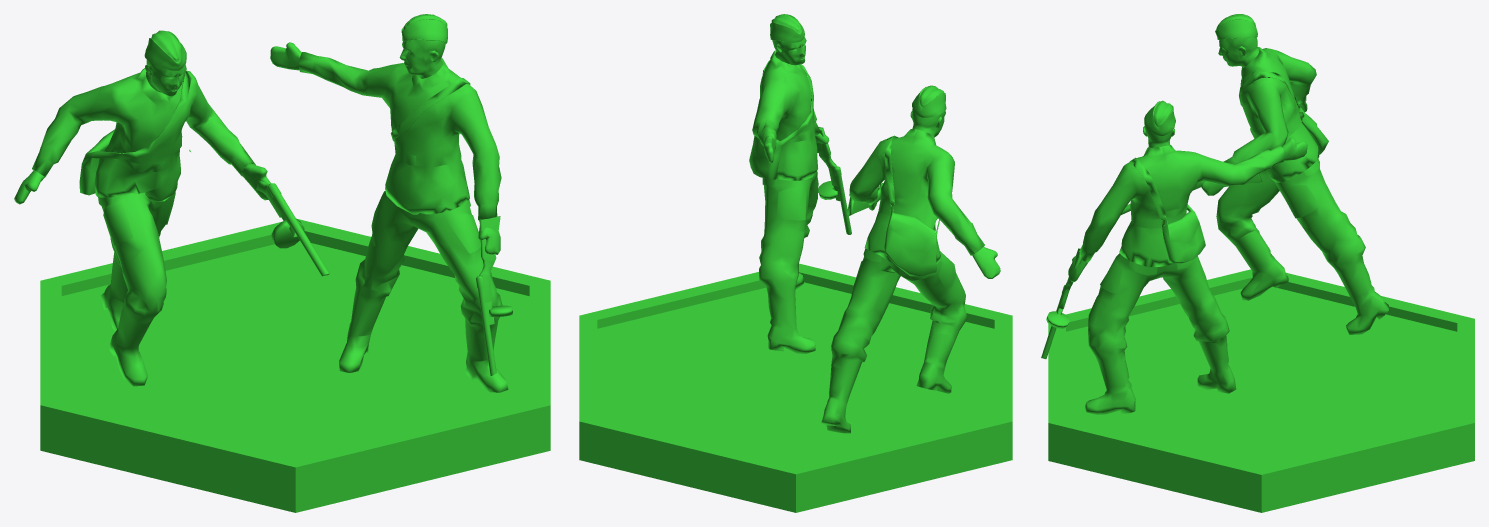
File: soldsssr.fbx
3 renders of one model, left to right at view 1: azimuth 30°, elevation 25°; view 2: azimuth 150°, elevation 25°; view 3: azimuth 270°, elevation 25°, orthographic. The views are drawn at different scales.
Visible parts, largest first — view 1: polySurface2; view 2: polySurface2; view 3: polySurface2.
Boxes of the visible parts, box(x1,y1,x2,y2) form: polySurface2: box(14, 14, 550, 512); polySurface2: box(579, 14, 1012, 512); polySurface2: box(1041, 14, 1474, 512).
Size of the model in its own units: 22.77 by 16.93 by 19.89.
